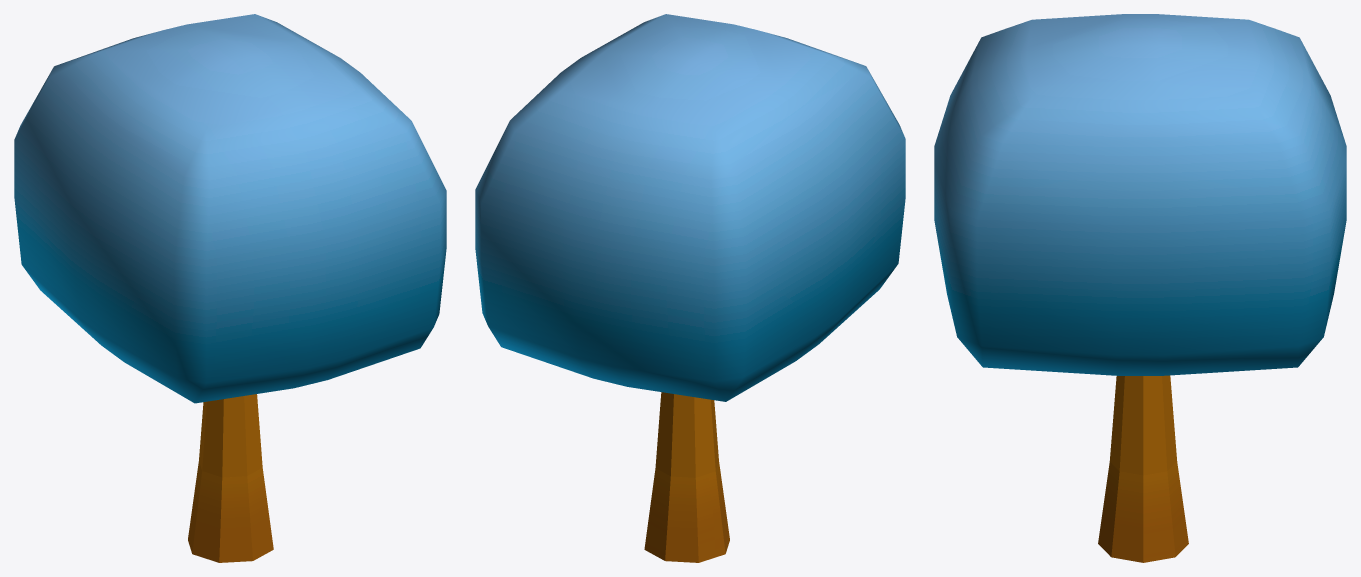
File: mini-1-blue.fbx
The picture shows the model from 3 angles, left to right: view 1: azimuth 30°, elevation 25°; view 2: azimuth 150°, elevation 25°; view 3: azimuth 270°, elevation 25°; orthographic projection. The views are drawn at different scales.
Parts seen in each view (by area): view 1: Cylinder.005; view 2: Cylinder.005; view 3: Cylinder.005.
Boxes of the visible parts, x1,y1,x2,y2 form: Cylinder.005: (14, 14, 446, 562); Cylinder.005: (475, 14, 905, 562); Cylinder.005: (934, 14, 1346, 562).
Size of the model in its own units: 32.54 by 51.98 by 38.56.
